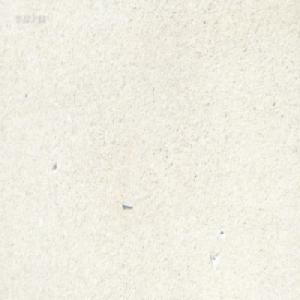Nail: (122, 202, 132, 209)
